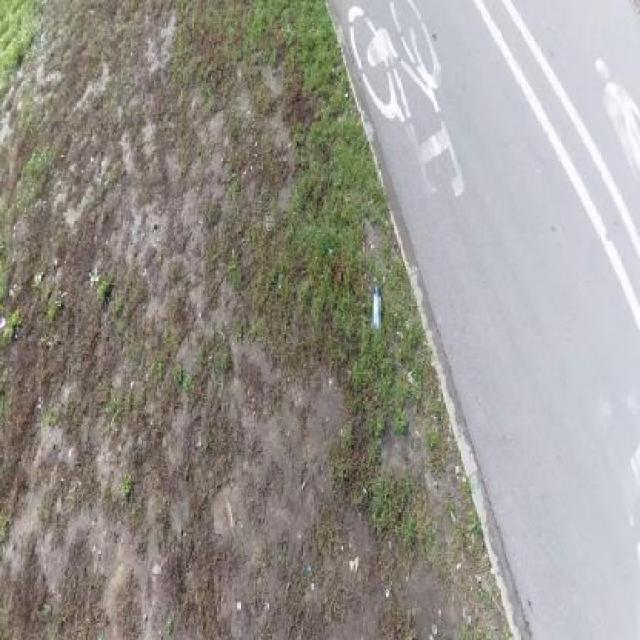Garbage: (372, 287, 380, 329)
